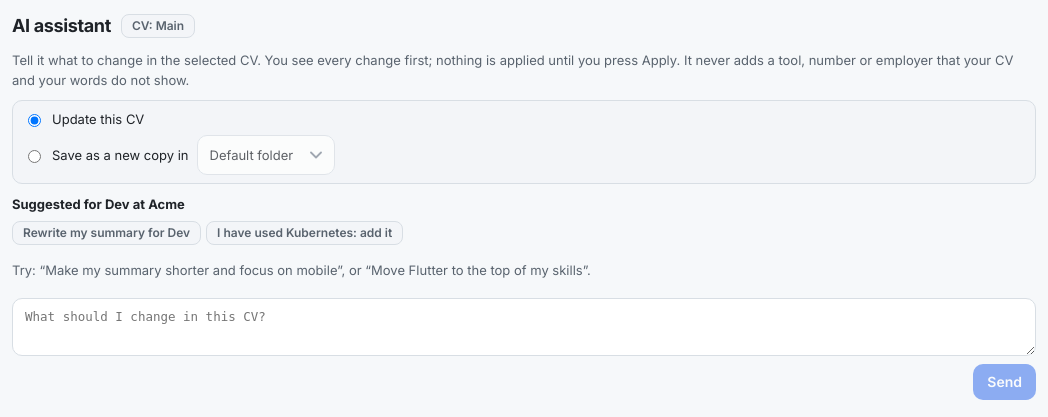
ChatPanel › coming from a job it offers suggestions, and a gap suggestion waits for your detail instead of sending
Click the button "I have used Kubernetes: add it".
click(305, 233)  # box [206,221,403,245]
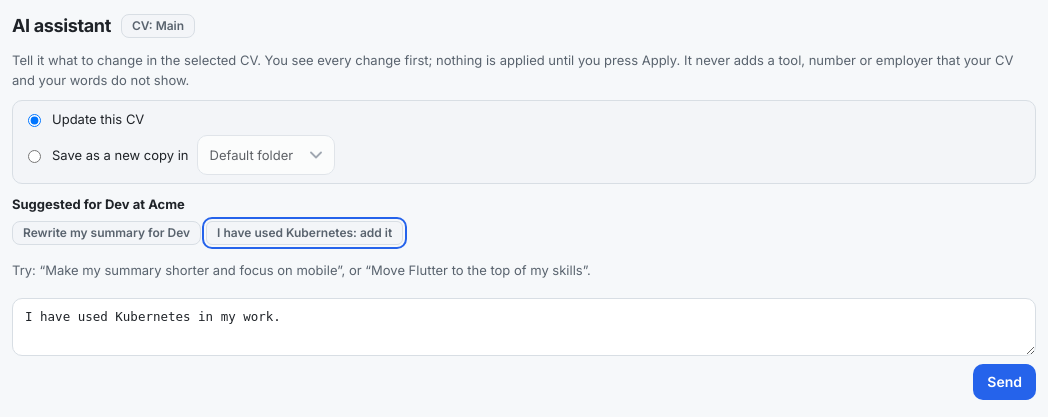
Expected: the text box named "Message" holds "I have used Kubernetes in my work. ", [12,298,1036,356]
